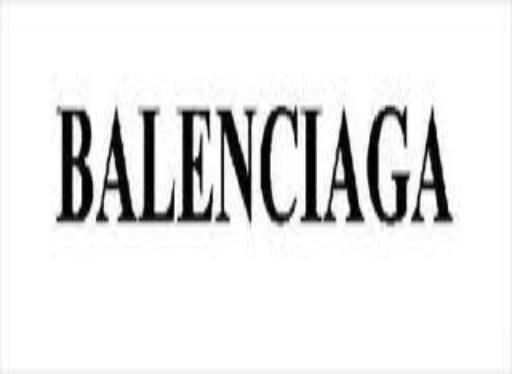BALENCIAGA: (52, 92, 456, 230)
